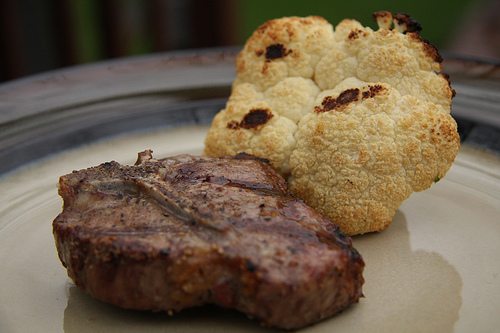cauliflower: (199, 3, 476, 242)
